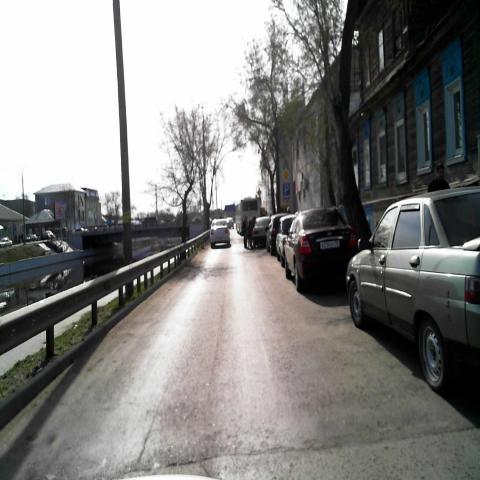2_1: (282, 166, 291, 180)
6_4: (284, 183, 290, 195)
